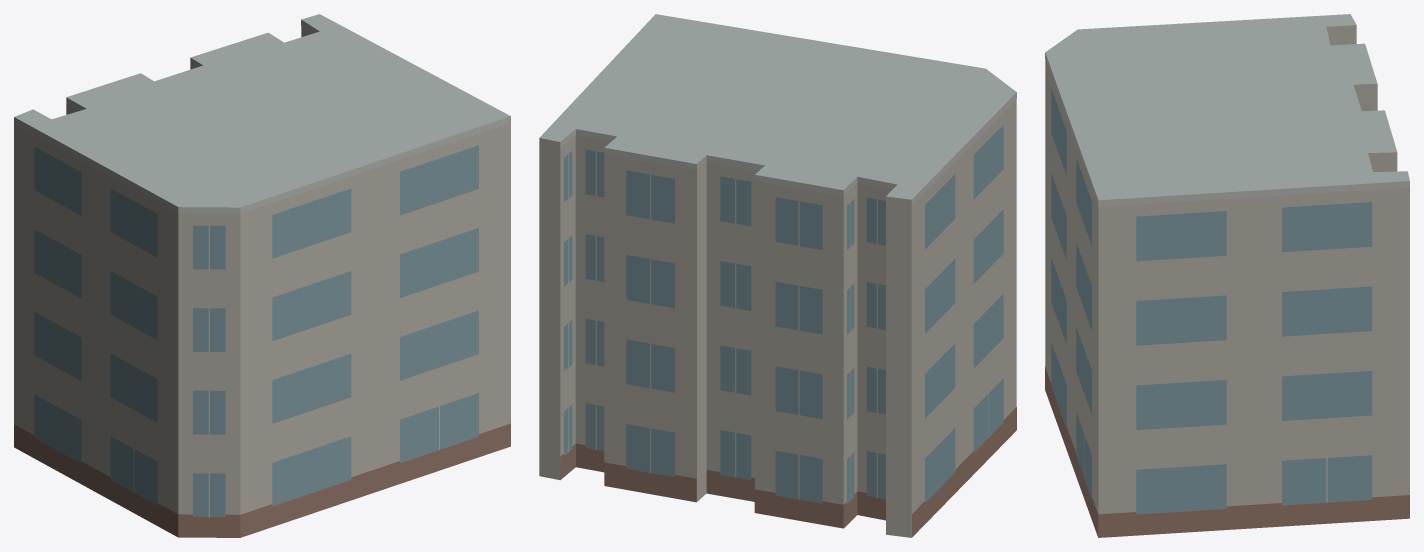
Rendered from survey-upis-32576965.glb.
The picture shows the model from 3 angles, left to right: view 1: azimuth 30°, elevation 25°; view 2: azimuth 150°, elevation 25°; view 3: azimuth 270°, elevation 25°; orthographic projection. The views are drawn at different scales.
Visible parts, largest first — view 1: survey-upis-32576965.tmp; view 2: survey-upis-32576965.tmp; view 3: survey-upis-32576965.tmp.
Part boxes in pixels (left/top/right/bottom): survey-upis-32576965.tmp: left=14, top=14, right=510, bottom=537; survey-upis-32576965.tmp: left=539, top=14, right=1016, bottom=537; survey-upis-32576965.tmp: left=1045, top=14, right=1409, bottom=537.
Bounding box in the file's own units: 15.15 × 12.8 × 12.54.
